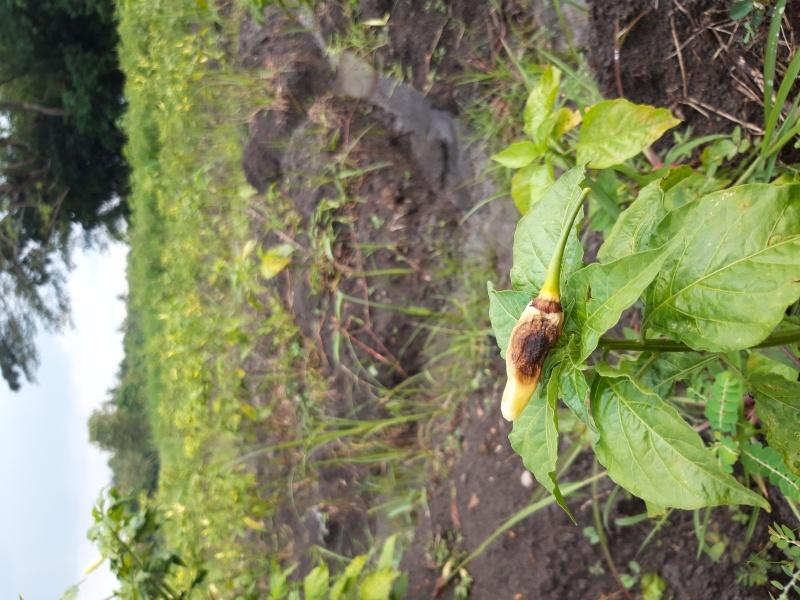antraknosa: (500, 299, 564, 422)
